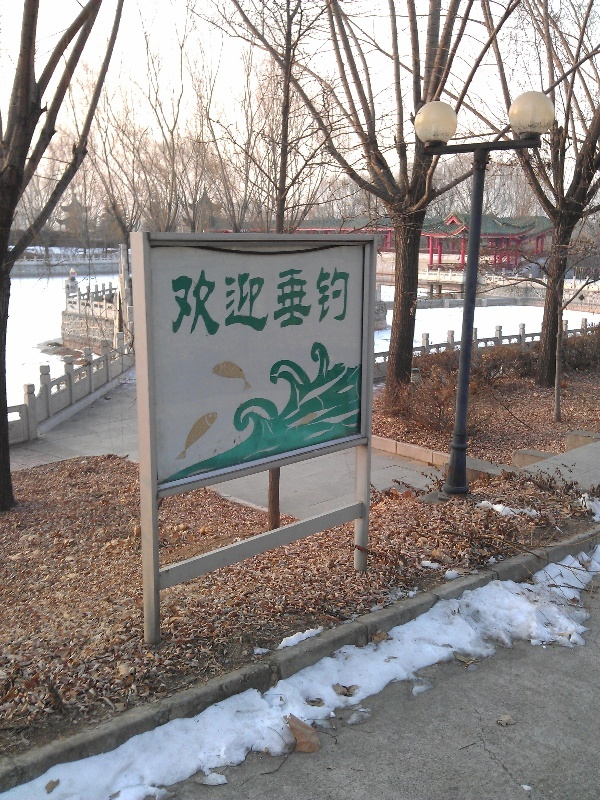text: (177, 264, 192, 341), (193, 264, 208, 341), (209, 264, 224, 341), (225, 264, 240, 341), (241, 264, 256, 341), (257, 264, 272, 341), (273, 264, 288, 341), (289, 264, 304, 341), (305, 264, 320, 341), (321, 264, 336, 341), (337, 264, 351, 341), (169, 264, 176, 341)
